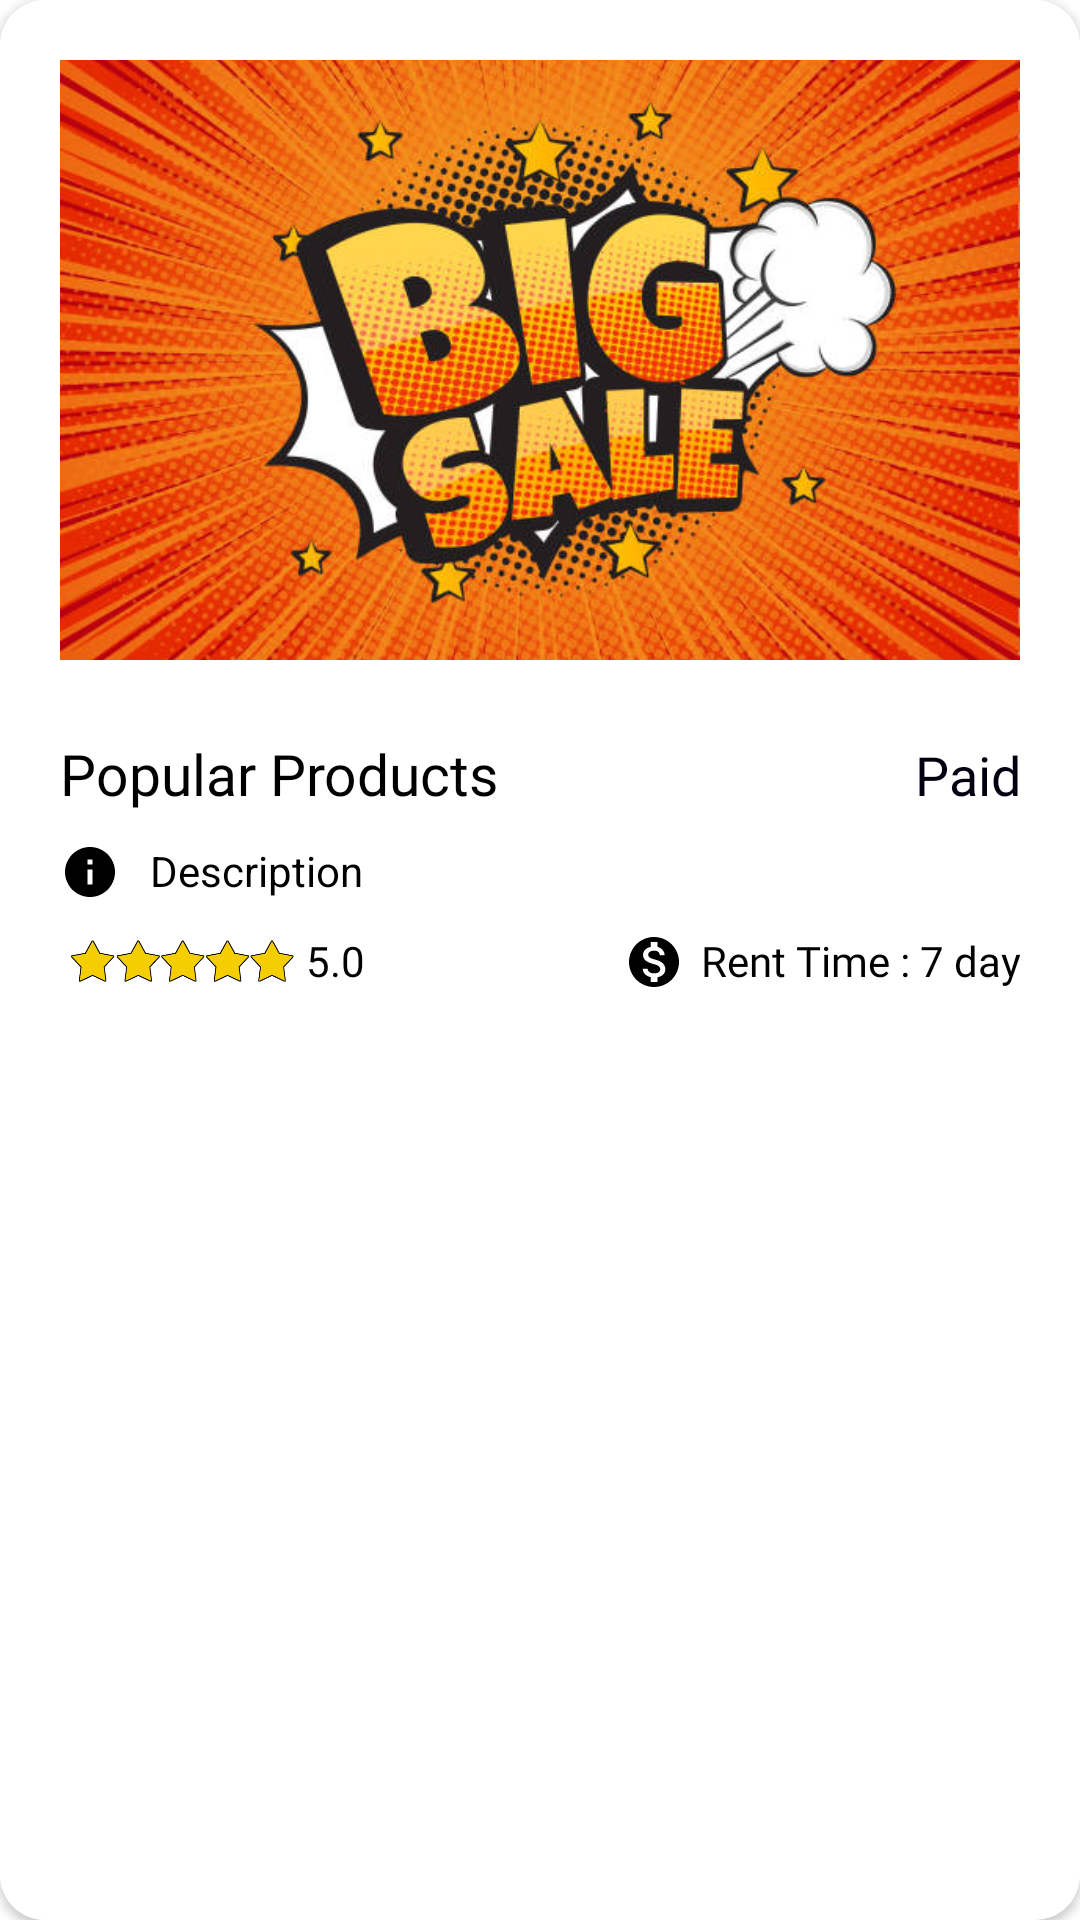

Icon bounding boxes for this 1080 × 1920 phone screenshot, format (x1, y1, x2, y2):
rating: (71, 940, 294, 982)
